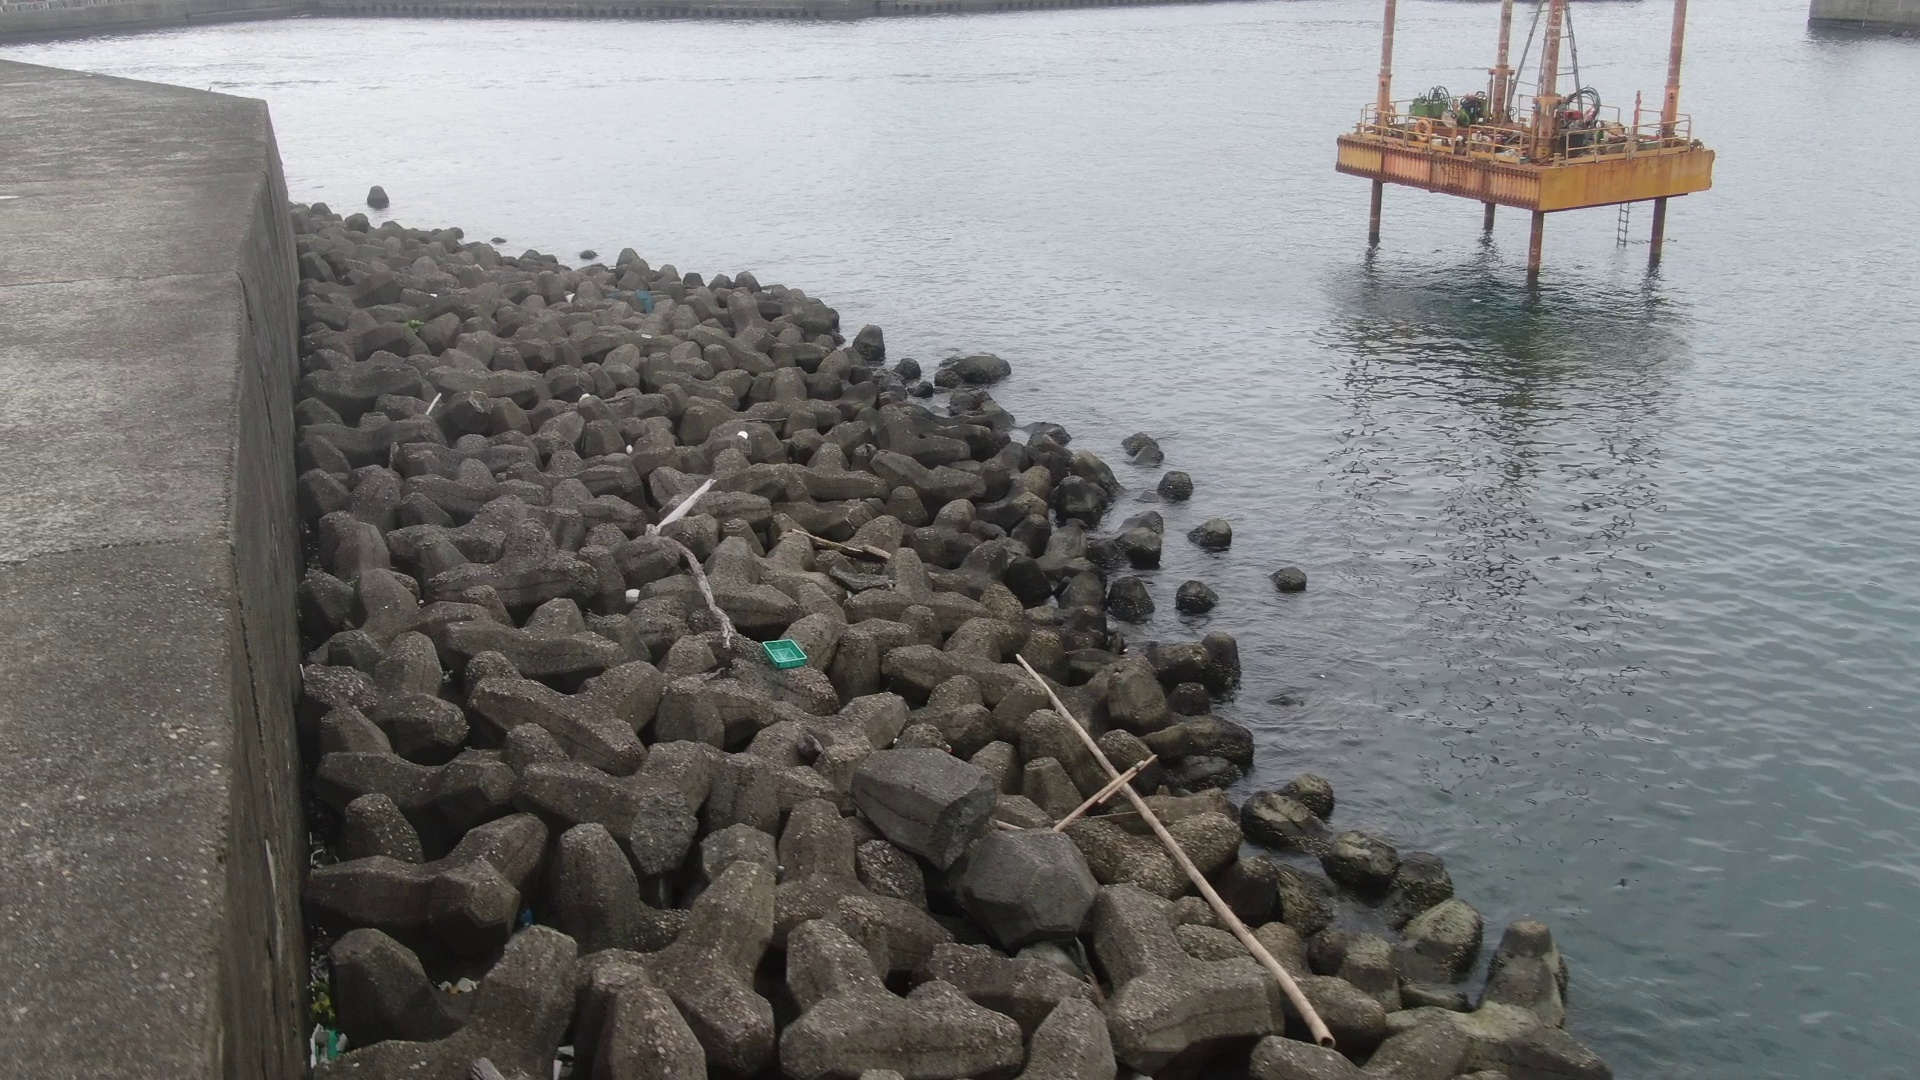garbage: (760, 633, 812, 676)
